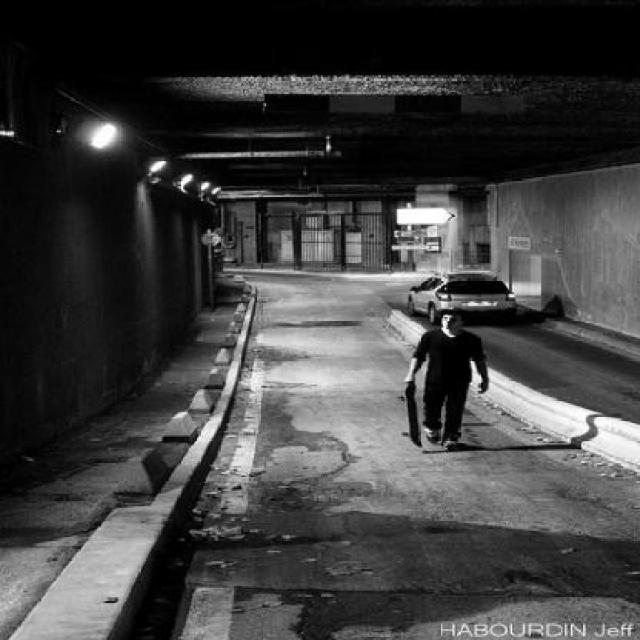Person: (402, 308, 488, 447)
